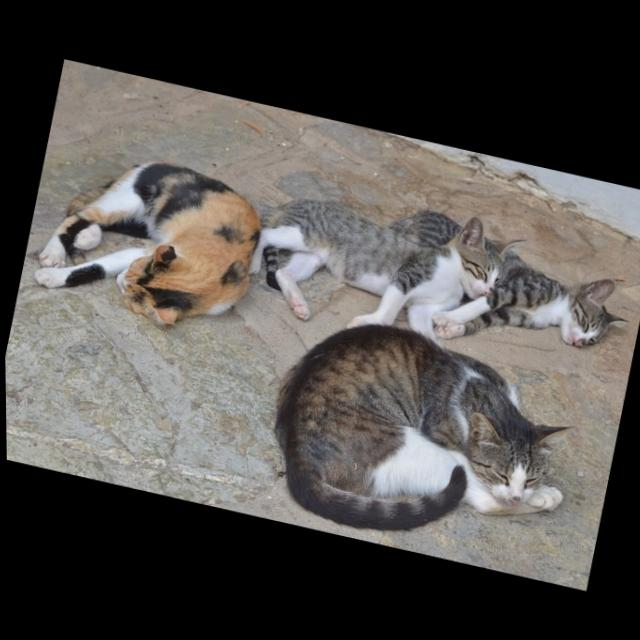animals: (256, 189, 629, 354), (272, 323, 565, 532), (33, 161, 260, 327)
